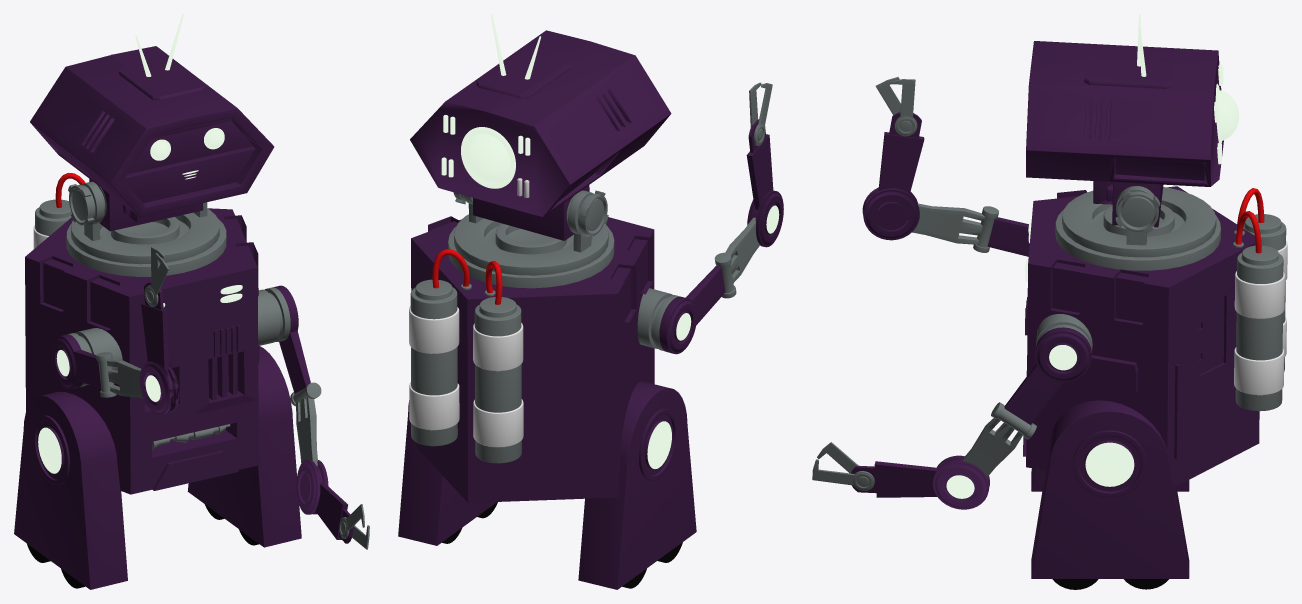
The model's file is meshkh.glb.
The picture shows the model from 3 angles, left to right: view 1: azimuth 30°, elevation 25°; view 2: azimuth 150°, elevation 25°; view 3: azimuth 270°, elevation 25°; orthographic projection. The views are drawn at different scales.
Parts seen in each view (by area): view 1: subbody, head, rightlegbody, leftlegbody, upperneck, righthand, shoulder, lefthand, antenabase, bottomneck, rightbiceps, leftforearm (+8 smaller); view 2: subbody, head, rightlegbody, tank, tankholder, upperneck, leftlegbody, righthand, rightbiceps, antenabase, bigeyeback, bottomneck (+6 smaller); view 3: subbody, head, leftlegbody, upperneck, tank, righthand, lefthand, leftbiceps, tankholder, rightforearm, bottomneck, antenabase (+9 smaller).
Boxes of the visible parts, x1,y1,x2,y2 form: subbody: [25, 208, 259, 494]; head: [30, 46, 274, 231]; rightlegbody: [14, 391, 127, 589]; leftlegbody: [187, 346, 301, 547]; upperneck: [71, 208, 219, 264]; righthand: [139, 282, 179, 414]; shoulder: [68, 287, 290, 386]; lefthand: [296, 460, 353, 543]; antenabase: [119, 58, 205, 100]; bottomneck: [66, 219, 226, 276]; rightbiceps: [52, 334, 101, 389]; leftforearm: [290, 382, 321, 466]; subbody: [411, 216, 654, 502]; head: [410, 30, 671, 240]; rightlegbody: [578, 381, 696, 589]; tank: [410, 279, 521, 463]; tankholder: [409, 306, 523, 447]; upperneck: [454, 214, 608, 275]; leftlegbody: [398, 400, 496, 545]; righthand: [746, 119, 783, 247]; rightbiceps: [659, 265, 725, 354]; antenabase: [476, 49, 570, 98]; bigeyeback: [461, 127, 515, 188]; bottomneck: [448, 226, 614, 288]; subbody: [1023, 186, 1261, 487]; head: [1026, 41, 1223, 227]; leftlegbody: [1031, 400, 1189, 578]; upperneck: [1062, 187, 1216, 257]; tank: [1233, 214, 1286, 411]; righthand: [862, 112, 924, 240]; lefthand: [851, 455, 989, 509]; leftbiceps: [1004, 327, 1091, 424]; tankholder: [1234, 240, 1287, 395]; rightforearm: [912, 203, 998, 252]; bottomneck: [1055, 209, 1220, 270]; antenabase: [1084, 54, 1174, 88].
Size of the model in its own units: 4.51 by 9.77 by 7.91.
